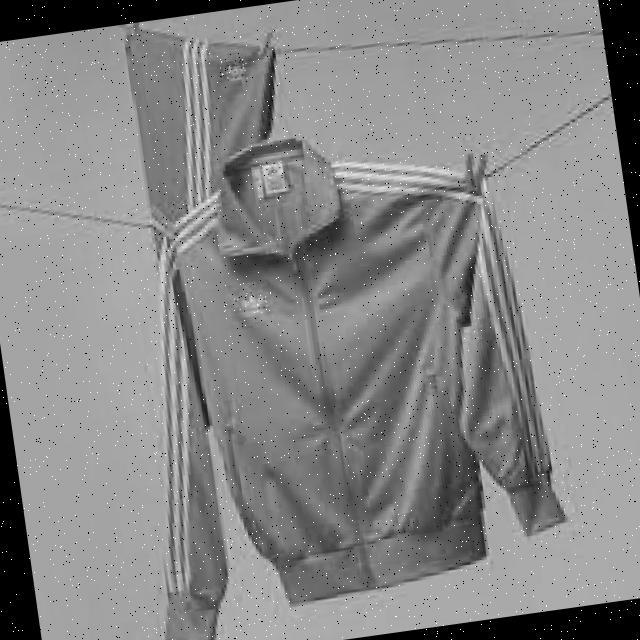Adidas: (234, 290, 269, 317), (219, 59, 250, 83), (259, 161, 284, 181)
